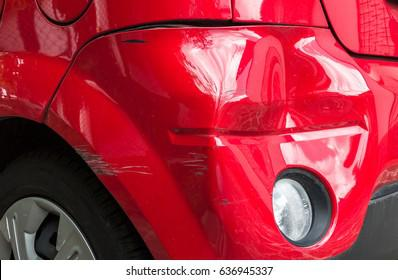rear-bumper-dent: (64, 38, 378, 259)
